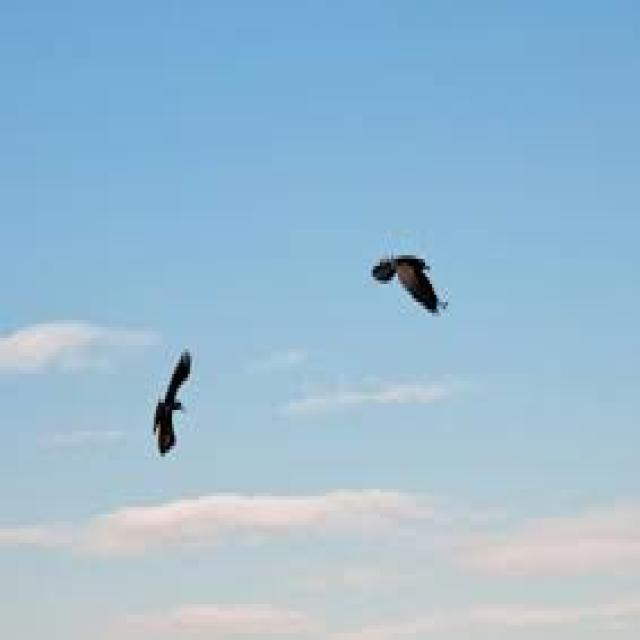bird: (362, 203, 465, 347), (142, 321, 209, 494)
